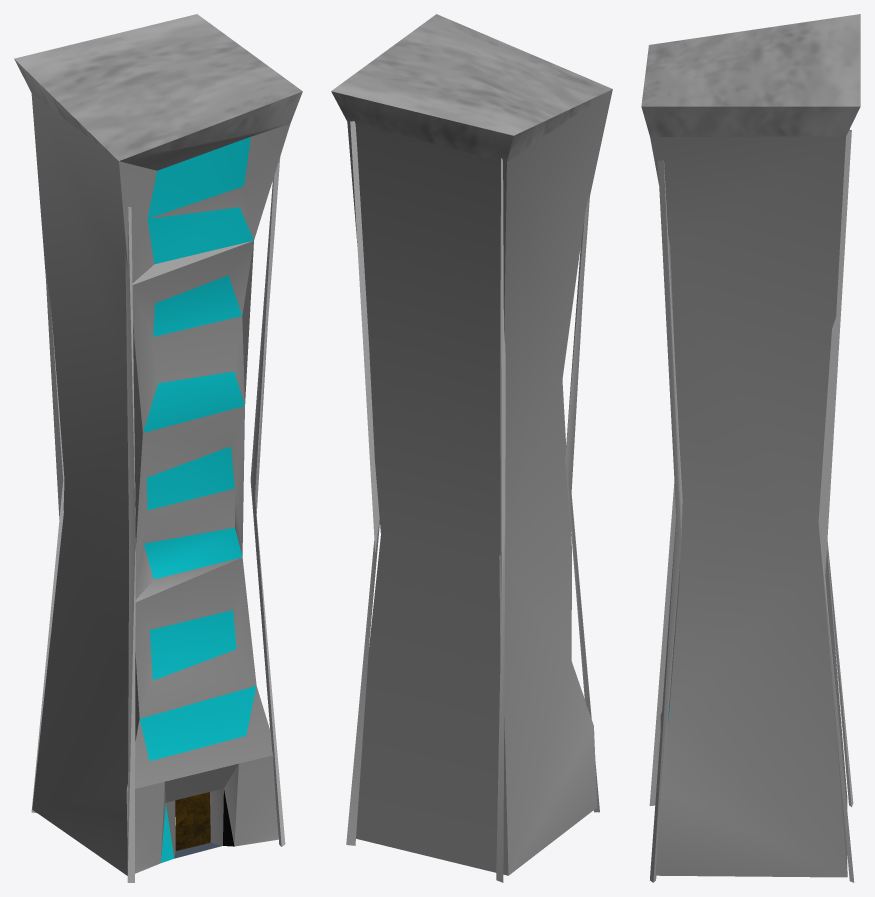
Rendered from PredioAltoFino-CinzaClaroLOD2.fbx.
The picture shows the model from 3 angles, left to right: view 1: azimuth 30°, elevation 25°; view 2: azimuth 150°, elevation 25°; view 3: azimuth 270°, elevation 25°; orthographic projection. The views are drawn at different scales.
Parts seen in each view (by area): view 1: PredioAltoFinoLOD2; view 2: PredioAltoFinoLOD2; view 3: PredioAltoFinoLOD2.
Part boxes in pixels (x1,y1,x2,y2): PredioAltoFinoLOD2: (14,14,302,882); PredioAltoFinoLOD2: (331,14,612,882); PredioAltoFinoLOD2: (641,14,860,882).
Bounding box in the file's own units: 635 × 2499 × 635.
